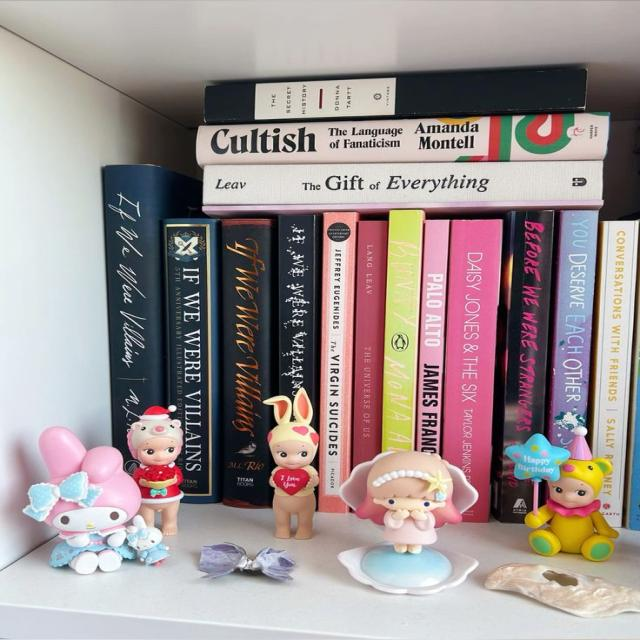book: (203, 65, 587, 125), (203, 160, 602, 216), (197, 113, 609, 166), (492, 211, 553, 522), (440, 220, 501, 522), (163, 219, 218, 502), (590, 221, 639, 528), (222, 221, 274, 507), (101, 164, 161, 400), (319, 212, 359, 512), (548, 211, 597, 447), (382, 210, 423, 450), (277, 215, 321, 403), (353, 221, 386, 466), (417, 220, 449, 453)
figurine: (23, 426, 168, 574), (340, 450, 478, 593), (505, 413, 618, 561), (263, 388, 318, 538), (128, 406, 183, 536)
